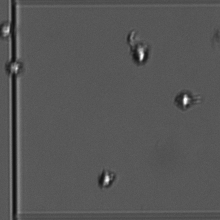Living Cell: (124, 31, 155, 72), (172, 87, 200, 118), (93, 165, 122, 192), (3, 57, 29, 78), (1, 19, 14, 39)
